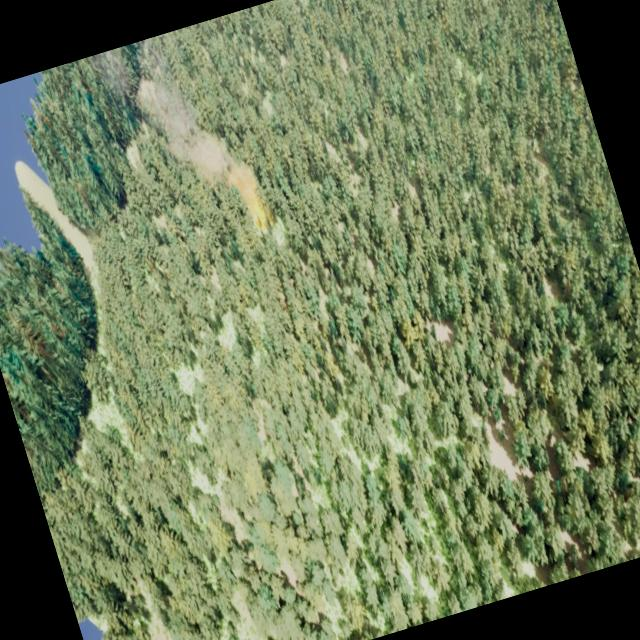fire: (236, 169, 276, 244)
smoke: (133, 54, 245, 204)
